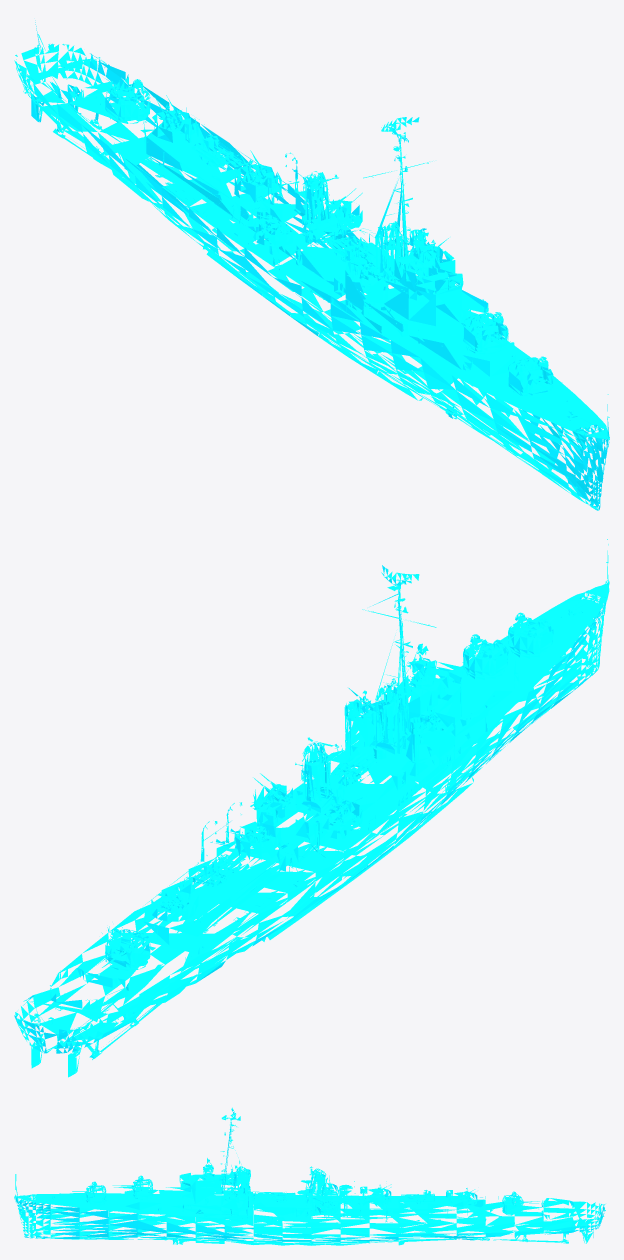
File: PASD891.glb
3 views of the same model, one above another, from view 1: azimuth 30°, elevation 25°; view 2: azimuth 150°, elevation 25°; view 3: azimuth 270°, elevation 25° (orthographic). The views are drawn at different scales.
Parts seen in each view (by area): view 1: hull, turret; view 2: hull, turret; view 3: hull, turret.
Boxes of the visible parts, <box> form: hull: <box>14,20,609,510</box>; turret: <box>96,78,556,396</box>; hull: <box>14,539,609,1077</box>; turret: <box>98,611,562,968</box>; hull: <box>14,1107,605,1245</box>; turret: <box>70,1165,539,1214</box>.
Bounding box in the file's own units: 0.9802 × 2.33 × 9.39.
